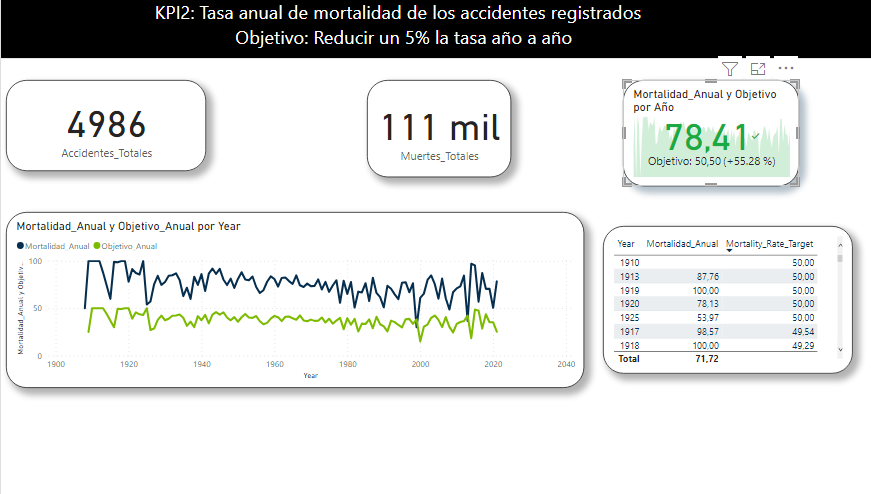

The dashboard page shown, as its layout file describes it:
{"tool":"powerbi","page":{"name":"KPI2","canvas":[1280,720],"ordinal":3},"visuals":[{"type":"lineChart","fields":{"Y":["Medidas.Mortalidad_Anual","Medidas.Mortality_Rate_Target"],"Category":["Calendario.Year"]},"box":[23.2,313,837.7,255.1],"z":1001},{"type":"tableEx","fields":{"Values":["Calendario.Date.Variación.Date Hierarchy.Year","Medidas.Mortalidad_Anual","Medidas.Mortality_Rate_Target"]},"box":[888.4,333.3,362.3,214.5],"z":1002},{"type":"kpi","fields":{"Indicator":["Medidas.Mortalidad_Anual"],"TrendLine":["Calendario.Year"],"Goal":["Medidas.mortality_rate_last_year"]},"box":[917.4,121.7,255.1,153.6],"z":1003},{"type":"card","fields":{"Values":["Medidas.Total_Accidents"]},"box":[23.2,121.7,289.9,131.9],"z":1004},{"type":"card","fields":{"Values":["Medidas.Total_Fatalities"]},"box":[546.4,121.7,208.7,140.6],"z":1005},{"type":"textbox","box":[0,0,1279.7,89.9],"z":1006}]}

Visuals, with their boxes in screenshot pixels (x1, y1, x2, y2), scaled from the page's 1280x720 canvas onto the 871x494 screenshot:
lineChart - Medidas.Mortalidad_Anual x Medidas.Mortality_Rate_Target: crop(16, 215, 586, 390)
tableEx - Calendario.Date.Variación.Date Hierarchy.Year x Medidas.Mortalidad_Anual: crop(605, 229, 851, 376)
kpi - Medidas.Mortalidad_Anual x Calendario.Year: crop(624, 83, 798, 189)
card - Medidas.Total_Accidents: crop(16, 83, 213, 174)
card - Medidas.Total_Fatalities: crop(372, 83, 514, 180)
textbox: crop(0, 0, 870, 62)
